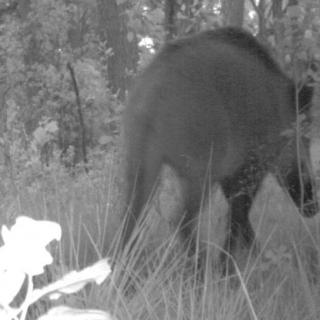Pig: (126, 12, 320, 272)
